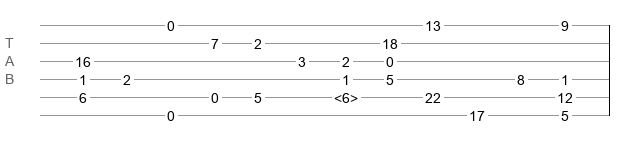0: (167, 18, 175, 28), (167, 108, 175, 118), (211, 90, 219, 100), (386, 54, 394, 64)
1: (79, 72, 87, 82), (342, 72, 350, 82), (561, 72, 569, 82)
12: (557, 90, 573, 100)
13: (425, 18, 441, 28)
16: (75, 54, 91, 64)
17: (469, 108, 485, 118)
18: (382, 36, 398, 46)
2: (123, 72, 131, 82), (254, 36, 262, 46), (342, 54, 350, 64)
22: (425, 90, 441, 100)
3: (298, 54, 306, 64)
5: (254, 90, 262, 100), (386, 72, 394, 82), (561, 108, 569, 118)
6: (79, 90, 87, 100)
7: (211, 36, 219, 46)
8: (517, 72, 525, 82)
9: (561, 18, 569, 28)
harmonic: (334, 90, 358, 100)
